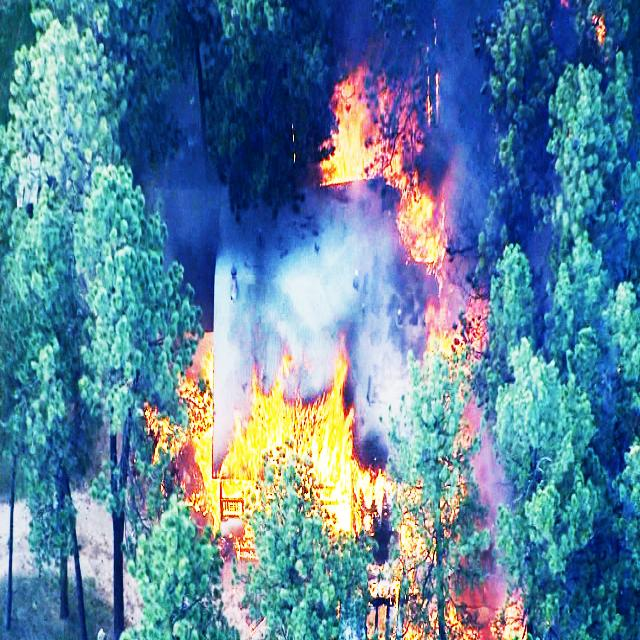api: (230, 361, 346, 528), (328, 73, 421, 186), (180, 347, 221, 515), (403, 185, 452, 265), (327, 476, 387, 533), (396, 517, 440, 576), (490, 594, 537, 640)
asap: (211, 217, 408, 379), (421, 1, 504, 207), (469, 415, 517, 528)
